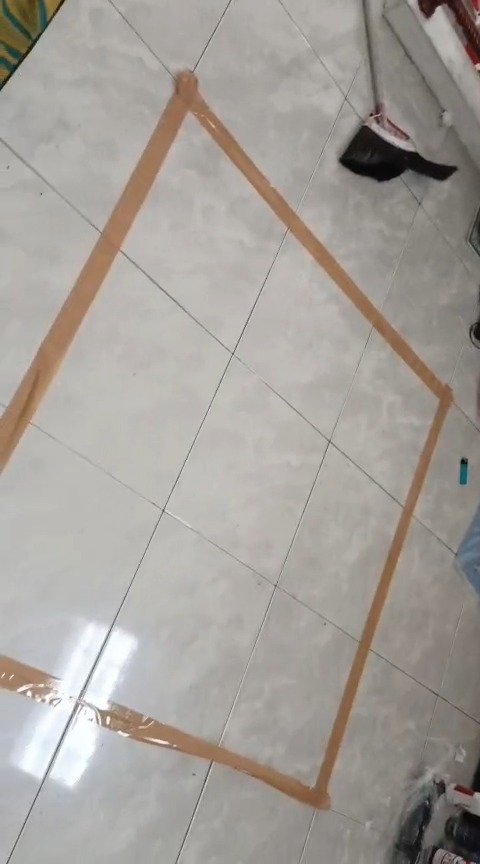floor marking: (0, 70, 452, 809)
